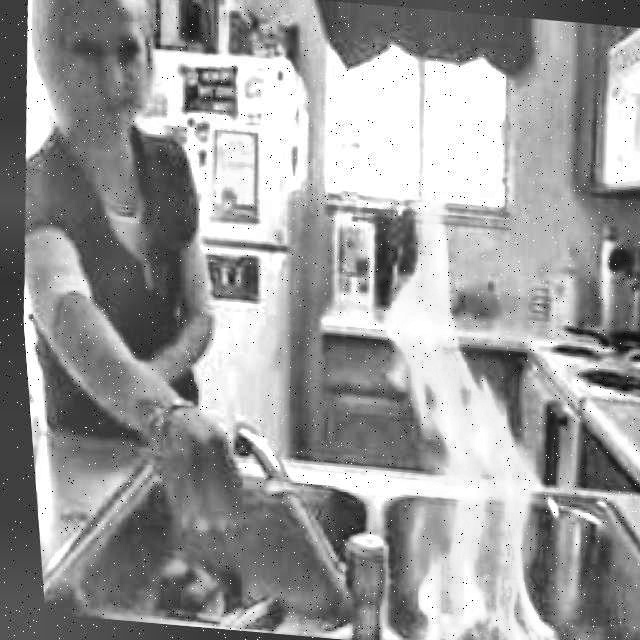Fire: (344, 179, 598, 640)
